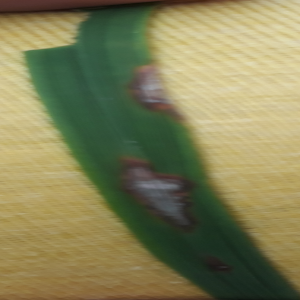Rice_Blast: (100, 143, 203, 235), (115, 47, 186, 129)
